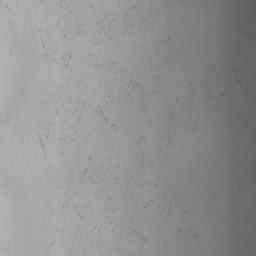Silk spot: (127, 79, 141, 90), (61, 53, 71, 68), (39, 134, 45, 151)
